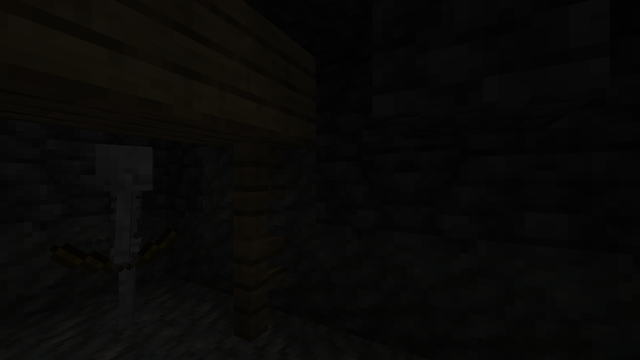squelettes: (84, 143, 167, 336)
